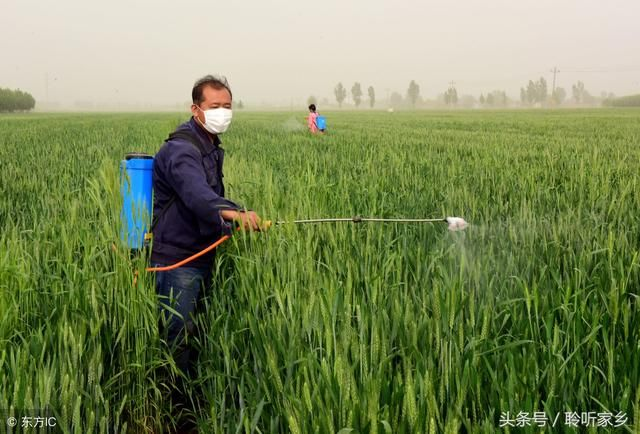berrl: (116, 152, 156, 253), (315, 113, 327, 132)
